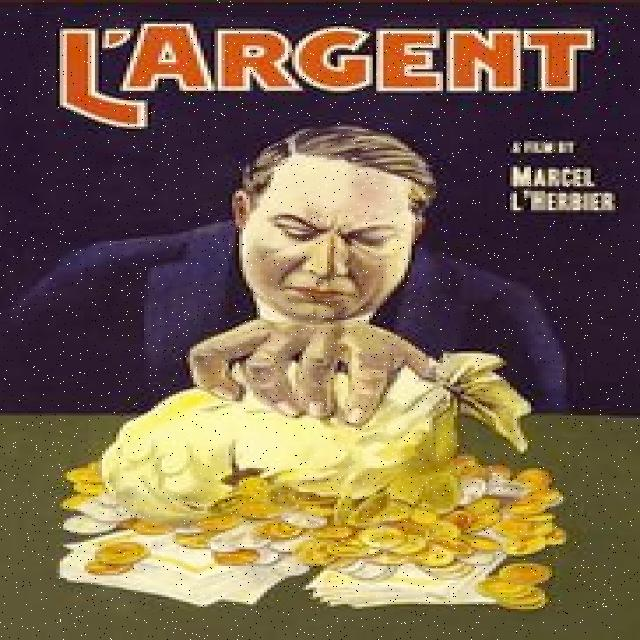movie-judul: (32, 10, 628, 134)
picture: (34, 135, 625, 624)
